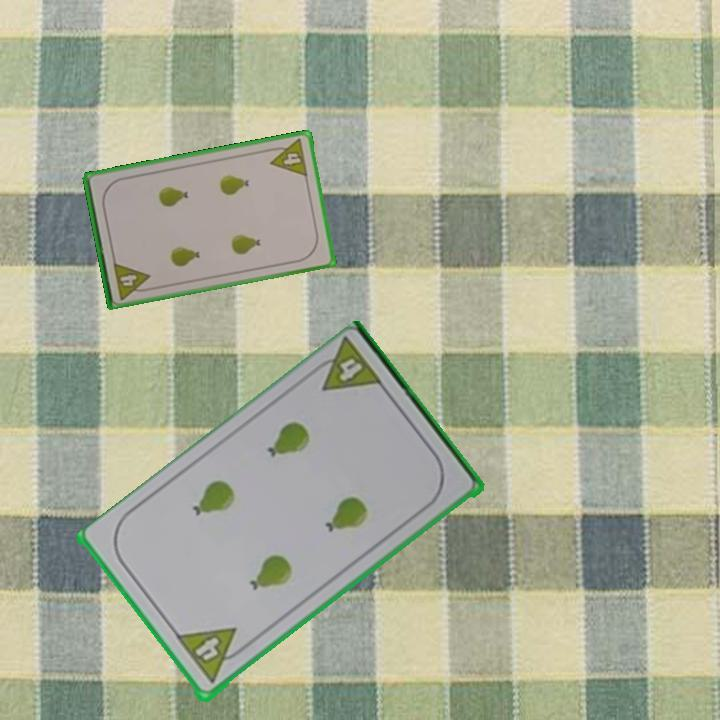4p: (306, 335, 387, 396), (173, 624, 250, 687), (264, 135, 310, 179), (110, 258, 154, 302)
